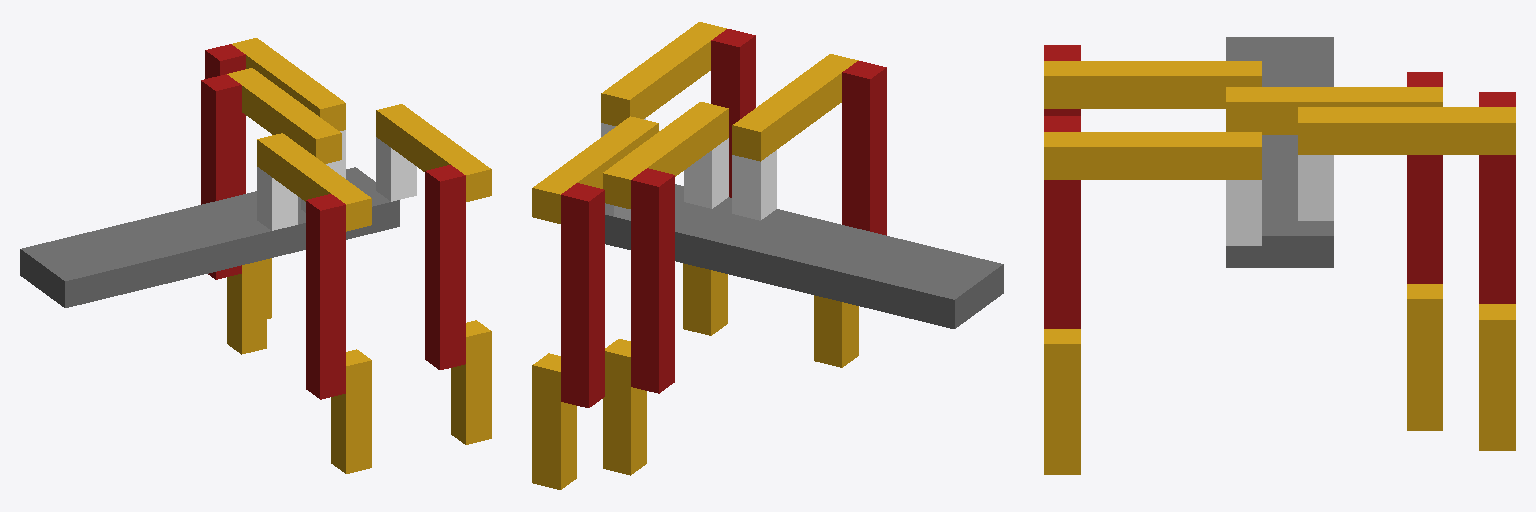
robot.urdf — v0:
<?xml version="1.0" encoding="utf-8"?>
<!-- =================================================================================== -->
<!-- |    This document was autogenerated by xacro from ../robots/v0variants/xacros/v0_4l_17.xacro | -->
<!-- |    EDITING THIS FILE BY HAND IS NOT RECOMMENDED                                 | -->
<!-- =================================================================================== -->
<robot name="v0">
  <material name="grey">
    <color rgba="0.5 0.5 0.5 1"/>
  </material>
  <material name="white">
    <color rgba="1 1 1 1"/>
  </material>
  <material name="yellow">
    <color rgba="0.91 0.7 0.14 1"/>
  </material>
  <material name="red">
    <color rgba="0.71 0.14 0.14 1"/>
  </material>
  <link name="body">
    <visual>
      <geometry>
        <box size="1.3 0.3 0.1"/>
      </geometry>
      <material name="grey"/>
      <origin rpy="0 0 0" xyz="0 0 0.7"/>
    </visual>
    <collision>
      <geometry>
        <box size="1.3 0.3 0.1"/>
      </geometry>
      <origin rpy="0 0 0" xyz="0 0 0.7"/>
    </collision>
    <inertial>
      <mass value="99.84"/>
      <inertia ixx="0.832" ixy="0.0" ixz="0.0" iyy="14.144" iyz="0.0" izz="14.8096"/>
    </inertial>
  </link>
  <link name="l1_segment_1">
    <visual>
      <geometry>
        <box size="0.1 0.1 0.2"/>
      </geometry>
      <material name="white"/>
      <origin rpy="0 0 0" xyz="0 0 0.1"/>
    </visual>
    <collision>
      <geometry>
        <box size="0.1 0.1 0.2"/>
      </geometry>
      <origin rpy="0 0 0" xyz="0 0 0.1"/>
    </collision>
    <inertial>
      <mass value="5.12"/>
      <inertia ixx="0.0213333333333" ixy="0.0" ixz="0.0" iyy="0.0213333333333" iyz="0.0" izz="0.00853333333333"/>
    </inertial>
  </link>
  <joint name="l1_base_to_joint_1" type="fixed">
    <parent link="body"/>
    <child link="l1_segment_1"/>
    <origin rpy="0 0 0" xyz="0.5056343408582616 0.1 0.75"/>
  </joint>
  <link name="l1_segment_2_HIP">
    <visual>
      <geometry>
        <box size="0.1 0.6 0.1"/>
      </geometry>
      <material name="yellow"/>
      <origin rpy="0 0 0" xyz="0 0.25 0"/>
    </visual>
    <collision>
      <geometry>
        <box size="0.1 0.6 0.1"/>
      </geometry>
      <origin rpy="0 0 0" xyz="0 0.25 0"/>
    </collision>
    <inertial>
      <mass value="15.36"/>
      <inertia ixx="0.4736" ixy="0.0" ixz="0.0" iyy="0.0256" iyz="0.0" izz="0.4736"/>
    </inertial>
  </link>
  <joint name="l1_joint_1_to_2" type="revolute">
    <parent link="l1_segment_1"/>
    <child link="l1_segment_2_HIP"/>
    <origin rpy="0 0 0" xyz="0 0 0.25"/>
    <axis xyz="0.0 0.0 1.0"/>
    <limit effort="2048" lower="-1.2" upper="1.2" velocity="20"/>
  </joint>
  <link name="l1_segment_3_THIGH">
    <visual>
      <geometry>
        <box size="0.1 0.1 0.7"/>
      </geometry>
      <material name="red"/>
      <origin rpy="0 0 0" xyz="0 0 -0.3"/>
    </visual>
    <collision>
      <geometry>
        <box size="0.1 0.1 0.7"/>
      </geometry>
      <origin rpy="0 0 0" xyz="0 0 -0.3"/>
    </collision>
    <inertial>
      <mass value="17.92"/>
      <inertia ixx="0.746666666667" ixy="0.0" ixz="0.0" iyy="0.746666666667" iyz="0.0" izz="0.0298666666667"/>
    </inertial>
  </link>
  <joint name="l1_joint_2_to_3" type="revolute">
    <parent link="l1_segment_2_HIP"/>
    <child link="l1_segment_3_THIGH"/>
    <origin rpy="0 0 0" xyz="-0.1 0.5 0"/>
    <axis xyz="1.0 0.0 0.0"/>
    <limit effort="2048" lower="-0.2" upper="0.75" velocity="20"/>
  </joint>
  <link name="l1_segment_4_FOOT">
    <visual>
      <geometry>
        <box size="0.1 0.1 0.4"/>
      </geometry>
      <material name="yellow"/>
      <origin rpy="0 0 0" xyz="0 0 -0.2"/>
    </visual>
    <collision>
      <geometry>
        <box size="0.1 0.1 0.4"/>
      </geometry>
      <origin rpy="0 0 0" xyz="0 0 -0.2"/>
    </collision>
    <inertial>
      <mass value="10.24"/>
      <inertia ixx="0.145066666667" ixy="0.0" ixz="0.0" iyy="0.145066666667" iyz="0.0" izz="0.0170666666667"/>
    </inertial>
  </link>
  <joint name="l1_joint_3_to_4_FOOT" type="revolute">
    <parent link="l1_segment_3_THIGH"/>
    <child link="l1_segment_4_FOOT"/>
    <origin rpy="0 0 0" xyz="0.1 0 -0.55"/>
    <axis xyz="1.0 0.0 0.0"/>
    <limit effort="2048" lower="-0.2" upper="0.5" velocity="20"/>
  </joint>
  <link name="r2_segment_1">
    <visual>
      <geometry>
        <box size="0.1 0.1 0.2"/>
      </geometry>
      <material name="white"/>
      <origin rpy="0 0 0" xyz="0 0 0.1"/>
    </visual>
    <collision>
      <geometry>
        <box size="0.1 0.1 0.2"/>
      </geometry>
      <origin rpy="0 0 0" xyz="0 0 0.1"/>
    </collision>
    <inertial>
      <mass value="5.12"/>
      <inertia ixx="0.0213333333333" ixy="0.0" ixz="0.0" iyy="0.0213333333333" iyz="0.0" izz="0.00853333333333"/>
    </inertial>
  </link>
  <joint name="r2_base_to_joint_1" type="fixed">
    <parent link="body"/>
    <child link="r2_segment_1"/>
    <origin rpy="0 0 0" xyz="0.2019402860126672 -0.1 0.75"/>
  </joint>
  <link name="r2_segment_2_HIP">
    <visual>
      <geometry>
        <box size="0.1 0.6 0.1"/>
      </geometry>
      <material name="yellow"/>
      <origin rpy="0 0 0" xyz="0 -0.25 0"/>
    </visual>
    <collision>
      <geometry>
        <box size="0.1 0.6 0.1"/>
      </geometry>
      <origin rpy="0 0 0" xyz="0 -0.25 0"/>
    </collision>
    <inertial>
      <mass value="15.36"/>
      <inertia ixx="0.4736" ixy="0.0" ixz="0.0" iyy="0.0256" iyz="0.0" izz="0.4736"/>
    </inertial>
  </link>
  <joint name="r2_joint_1_to_2" type="revolute">
    <parent link="r2_segment_1"/>
    <child link="r2_segment_2_HIP"/>
    <origin rpy="0 0 0" xyz="0 0 0.25"/>
    <axis xyz="0.0 0.0 1.0"/>
    <limit effort="2048" lower="-1.2" upper="1.2" velocity="20"/>
  </joint>
  <link name="r2_segment_3_THIGH">
    <visual>
      <geometry>
        <box size="0.1 0.1 0.7"/>
      </geometry>
      <material name="red"/>
      <origin rpy="0 0 0" xyz="0 0 -0.3"/>
    </visual>
    <collision>
      <geometry>
        <box size="0.1 0.1 0.7"/>
      </geometry>
      <origin rpy="0 0 0" xyz="0 0 -0.3"/>
    </collision>
    <inertial>
      <mass value="17.92"/>
      <inertia ixx="0.746666666667" ixy="0.0" ixz="0.0" iyy="0.746666666667" iyz="0.0" izz="0.0298666666667"/>
    </inertial>
  </link>
  <joint name="r2_joint_2_to_3" type="revolute">
    <parent link="r2_segment_2_HIP"/>
    <child link="r2_segment_3_THIGH"/>
    <origin rpy="0 0 0" xyz="-0.1 -0.5 0"/>
    <axis xyz="1.0 0.0 0.0"/>
    <limit effort="2048" lower="-0.75" upper="0.2" velocity="20"/>
  </joint>
  <link name="r2_segment_4_FOOT">
    <visual>
      <geometry>
        <box size="0.1 0.1 0.4"/>
      </geometry>
      <material name="yellow"/>
      <origin rpy="0 0 0" xyz="0 0 -0.2"/>
    </visual>
    <collision>
      <geometry>
        <box size="0.1 0.1 0.4"/>
      </geometry>
      <origin rpy="0 0 0" xyz="0 0 -0.2"/>
    </collision>
    <inertial>
      <mass value="10.24"/>
      <inertia ixx="0.145066666667" ixy="0.0" ixz="0.0" iyy="0.145066666667" iyz="0.0" izz="0.0170666666667"/>
    </inertial>
  </link>
  <joint name="r2_joint_3_to_4_FOOT" type="revolute">
    <parent link="r2_segment_3_THIGH"/>
    <child link="r2_segment_4_FOOT"/>
    <origin rpy="0 0 0" xyz="0.1 0 -0.55"/>
    <axis xyz="1.0 0.0 0.0"/>
    <limit effort="2048" lower="-0.5" upper="0.2" velocity="20"/>
  </joint>
  <link name="l3_segment_1">
    <visual>
      <geometry>
        <box size="0.1 0.1 0.2"/>
      </geometry>
      <material name="white"/>
      <origin rpy="0 0 0" xyz="0 0 0.1"/>
    </visual>
    <collision>
      <geometry>
        <box size="0.1 0.1 0.2"/>
      </geometry>
      <origin rpy="0 0 0" xyz="0 0 0.1"/>
    </collision>
    <inertial>
      <mass value="5.12"/>
      <inertia ixx="0.0213333333333" ixy="0.0" ixz="0.0" iyy="0.0213333333333" iyz="0.0" izz="0.00853333333333"/>
    </inertial>
  </link>
  <joint name="l3_base_to_joint_1" type="fixed">
    <parent link="body"/>
    <child link="l3_segment_1"/>
    <origin rpy="0 0 0" xyz="0.37296381486725794 -0.1 0.75"/>
  </joint>
  <link name="l3_segment_2_HIP">
    <visual>
      <geometry>
        <box size="0.1 0.6 0.1"/>
      </geometry>
      <material name="yellow"/>
      <origin rpy="0 0 0" xyz="0 0.25 0"/>
    </visual>
    <collision>
      <geometry>
        <box size="0.1 0.6 0.1"/>
      </geometry>
      <origin rpy="0 0 0" xyz="0 0.25 0"/>
    </collision>
    <inertial>
      <mass value="15.36"/>
      <inertia ixx="0.4736" ixy="0.0" ixz="0.0" iyy="0.0256" iyz="0.0" izz="0.4736"/>
    </inertial>
  </link>
  <joint name="l3_joint_1_to_2" type="revolute">
    <parent link="l3_segment_1"/>
    <child link="l3_segment_2_HIP"/>
    <origin rpy="0 0 0" xyz="0 0 0.25"/>
    <axis xyz="0.0 0.0 1.0"/>
    <limit effort="2048" lower="-1.2" upper="1.2" velocity="20"/>
  </joint>
  <link name="l3_segment_3_THIGH">
    <visual>
      <geometry>
        <box size="0.1 0.1 0.7"/>
      </geometry>
      <material name="red"/>
      <origin rpy="0 0 0" xyz="0 0 -0.3"/>
    </visual>
    <collision>
      <geometry>
        <box size="0.1 0.1 0.7"/>
      </geometry>
      <origin rpy="0 0 0" xyz="0 0 -0.3"/>
    </collision>
    <inertial>
      <mass value="17.92"/>
      <inertia ixx="0.746666666667" ixy="0.0" ixz="0.0" iyy="0.746666666667" iyz="0.0" izz="0.0298666666667"/>
    </inertial>
  </link>
  <joint name="l3_joint_2_to_3" type="revolute">
    <parent link="l3_segment_2_HIP"/>
    <child link="l3_segment_3_THIGH"/>
    <origin rpy="0 0 0" xyz="-0.1 0.5 0"/>
    <axis xyz="1.0 0.0 0.0"/>
    <limit effort="2048" lower="-0.2" upper="0.75" velocity="20"/>
  </joint>
  <link name="l3_segment_4_FOOT">
    <visual>
      <geometry>
        <box size="0.1 0.1 0.4"/>
      </geometry>
      <material name="yellow"/>
      <origin rpy="0 0 0" xyz="0 0 -0.2"/>
    </visual>
    <collision>
      <geometry>
        <box size="0.1 0.1 0.4"/>
      </geometry>
      <origin rpy="0 0 0" xyz="0 0 -0.2"/>
    </collision>
    <inertial>
      <mass value="10.24"/>
      <inertia ixx="0.145066666667" ixy="0.0" ixz="0.0" iyy="0.145066666667" iyz="0.0" izz="0.0170666666667"/>
    </inertial>
  </link>
  <joint name="l3_joint_3_to_4_FOOT" type="revolute">
    <parent link="l3_segment_3_THIGH"/>
    <child link="l3_segment_4_FOOT"/>
    <origin rpy="0 0 0" xyz="0.1 0 -0.55"/>
    <axis xyz="1.0 0.0 0.0"/>
    <limit effort="2048" lower="-0.2" upper="0.5" velocity="20"/>
  </joint>
  <link name="r4_segment_1">
    <visual>
      <geometry>
        <box size="0.1 0.1 0.2"/>
      </geometry>
      <material name="white"/>
      <origin rpy="0 0 0" xyz="0 0 0.1"/>
    </visual>
    <collision>
      <geometry>
        <box size="0.1 0.1 0.2"/>
      </geometry>
      <origin rpy="0 0 0" xyz="0 0 0.1"/>
    </collision>
    <inertial>
      <mass value="5.12"/>
      <inertia ixx="0.0213333333333" ixy="0.0" ixz="0.0" iyy="0.0213333333333" iyz="0.0" izz="0.00853333333333"/>
    </inertial>
  </link>
  <joint name="r4_base_to_joint_1" type="fixed">
    <parent link="body"/>
    <child link="r4_segment_1"/>
    <origin rpy="0 0 0" xyz="0.6654607643618466 -0.1 0.75"/>
  </joint>
  <link name="r4_segment_2_HIP">
    <visual>
      <geometry>
        <box size="0.1 0.6 0.1"/>
      </geometry>
      <material name="yellow"/>
      <origin rpy="0 0 0" xyz="0 -0.25 0"/>
    </visual>
    <collision>
      <geometry>
        <box size="0.1 0.6 0.1"/>
      </geometry>
      <origin rpy="0 0 0" xyz="0 -0.25 0"/>
    </collision>
    <inertial>
      <mass value="15.36"/>
      <inertia ixx="0.4736" ixy="0.0" ixz="0.0" iyy="0.0256" iyz="0.0" izz="0.4736"/>
    </inertial>
  </link>
  <joint name="r4_joint_1_to_2" type="revolute">
    <parent link="r4_segment_1"/>
    <child link="r4_segment_2_HIP"/>
    <origin rpy="0 0 0" xyz="0 0 0.25"/>
    <axis xyz="0.0 0.0 1.0"/>
    <limit effort="2048" lower="-1.2" upper="1.2" velocity="20"/>
  </joint>
  <link name="r4_segment_3_THIGH">
    <visual>
      <geometry>
        <box size="0.1 0.1 0.7"/>
      </geometry>
      <material name="red"/>
      <origin rpy="0 0 0" xyz="0 0 -0.3"/>
    </visual>
    <collision>
      <geometry>
        <box size="0.1 0.1 0.7"/>
      </geometry>
      <origin rpy="0 0 0" xyz="0 0 -0.3"/>
    </collision>
    <inertial>
      <mass value="17.92"/>
      <inertia ixx="0.746666666667" ixy="0.0" ixz="0.0" iyy="0.746666666667" iyz="0.0" izz="0.0298666666667"/>
    </inertial>
  </link>
  <joint name="r4_joint_2_to_3" type="revolute">
    <parent link="r4_segment_2_HIP"/>
    <child link="r4_segment_3_THIGH"/>
    <origin rpy="0 0 0" xyz="-0.1 -0.5 0"/>
    <axis xyz="1.0 0.0 0.0"/>
    <limit effort="2048" lower="-0.75" upper="0.2" velocity="20"/>
  </joint>
  <link name="r4_segment_4_FOOT">
    <visual>
      <geometry>
        <box size="0.1 0.1 0.4"/>
      </geometry>
      <material name="yellow"/>
      <origin rpy="0 0 0" xyz="0 0 -0.2"/>
    </visual>
    <collision>
      <geometry>
        <box size="0.1 0.1 0.4"/>
      </geometry>
      <origin rpy="0 0 0" xyz="0 0 -0.2"/>
    </collision>
    <inertial>
      <mass value="10.24"/>
      <inertia ixx="0.145066666667" ixy="0.0" ixz="0.0" iyy="0.145066666667" iyz="0.0" izz="0.0170666666667"/>
    </inertial>
  </link>
  <joint name="r4_joint_3_to_4_FOOT" type="revolute">
    <parent link="r4_segment_3_THIGH"/>
    <child link="r4_segment_4_FOOT"/>
    <origin rpy="0 0 0" xyz="0.1 0 -0.55"/>
    <axis xyz="1.0 0.0 0.0"/>
    <limit effort="2048" lower="-0.5" upper="0.2" velocity="20"/>
  </joint>
</robot>

--- Render facts (derived) ---
The picture shows the robot from 3 angles, left to right: view 1: azimuth 30°, elevation 25°; view 2: azimuth 150°, elevation 25°; view 3: azimuth 270°, elevation 25°; orthographic projection.
Model v0 with 17 links and 16 joints (12 revolute, 4 fixed), rooted at body, posed every joint at zero.
Links seen in each view (by area): view 1: body, r4_segment_3_THIGH, r2_segment_3_THIGH, l3_segment_3_THIGH, r4_segment_2_HIP, r2_segment_2_HIP, l3_segment_2_HIP, r2_segment_4_FOOT, r4_segment_4_FOOT, l1_segment_2_HIP, l3_segment_4_FOOT, r4_segment_1 (+2 smaller); view 2: body, l1_segment_3_THIGH, l3_segment_3_THIGH, r2_segment_3_THIGH, r2_segment_2_HIP, r4_segment_2_HIP, l3_segment_2_HIP, l1_segment_4_FOOT, l3_segment_4_FOOT, l1_segment_2_HIP, r4_segment_3_THIGH, r4_segment_4_FOOT (+3 smaller); view 3: body, l1_segment_2_HIP, r4_segment_2_HIP, r2_segment_2_HIP, l3_segment_2_HIP, r4_segment_3_THIGH, l1_segment_3_THIGH, l1_segment_4_FOOT, r4_segment_4_FOOT, l3_segment_4_FOOT, l3_segment_3_THIGH, l1_segment_1 (+2 smaller).
Link boxes in pixels (x1=…): body: x1=20, y1=167, x2=399, y2=307; r4_segment_3_THIGH: x1=425, y1=165, x2=465, y2=369; r2_segment_3_THIGH: x1=306, y1=194, x2=345, y2=399; l3_segment_3_THIGH: x1=201, y1=74, x2=241, y2=279; r4_segment_2_HIP: x1=376, y1=104, x2=491, y2=201; r2_segment_2_HIP: x1=257, y1=133, x2=371, y2=231; l3_segment_2_HIP: x1=227, y1=68, x2=341, y2=163; r2_segment_4_FOOT: x1=331, y1=349, x2=371, y2=473; r4_segment_4_FOOT: x1=451, y1=320, x2=491, y2=444; l1_segment_2_HIP: x1=232, y1=38, x2=345, y2=130; l3_segment_4_FOOT: x1=227, y1=259, x2=266, y2=354; r4_segment_1: x1=376, y1=137, x2=416, y2=201; body: x1=605, y1=184, x2=1003, y2=328; l1_segment_3_THIGH: x1=561, y1=183, x2=604, y2=407; l3_segment_3_THIGH: x1=631, y1=168, x2=674, y2=393; r2_segment_3_THIGH: x1=842, y1=61, x2=886, y2=235; r2_segment_2_HIP: x1=732, y1=54, x2=858, y2=161; r4_segment_2_HIP: x1=601, y1=22, x2=726, y2=125; l3_segment_2_HIP: x1=603, y1=102, x2=728, y2=208; l1_segment_4_FOOT: x1=532, y1=353, x2=576, y2=489; l3_segment_4_FOOT: x1=603, y1=339, x2=646, y2=475; l1_segment_2_HIP: x1=532, y1=116, x2=658, y2=223; r4_segment_3_THIGH: x1=711, y1=29, x2=755, y2=197; r4_segment_4_FOOT: x1=683, y1=263, x2=727, y2=335; body: x1=1226, y1=37, x2=1333, y2=267; l1_segment_2_HIP: x1=1298, y1=107, x2=1515, y2=154; r4_segment_2_HIP: x1=1044, y1=132, x2=1261, y2=179; r2_segment_2_HIP: x1=1044, y1=61, x2=1261, y2=108; l3_segment_2_HIP: x1=1226, y1=87, x2=1442, y2=134; r4_segment_3_THIGH: x1=1044, y1=116, x2=1080, y2=328; l1_segment_3_THIGH: x1=1479, y1=92, x2=1515, y2=303; l1_segment_4_FOOT: x1=1479, y1=304, x2=1515, y2=450; r4_segment_4_FOOT: x1=1044, y1=329, x2=1080, y2=474; l3_segment_4_FOOT: x1=1407, y1=284, x2=1442, y2=430; l3_segment_3_THIGH: x1=1407, y1=72, x2=1442, y2=283; l1_segment_1: x1=1298, y1=155, x2=1333, y2=220.
Bounding box of the posed robot: 1.37 × 1.3 × 1 m (x, y, z).
Geometry: primitives only (box / cylinder / sphere), no mesh files.